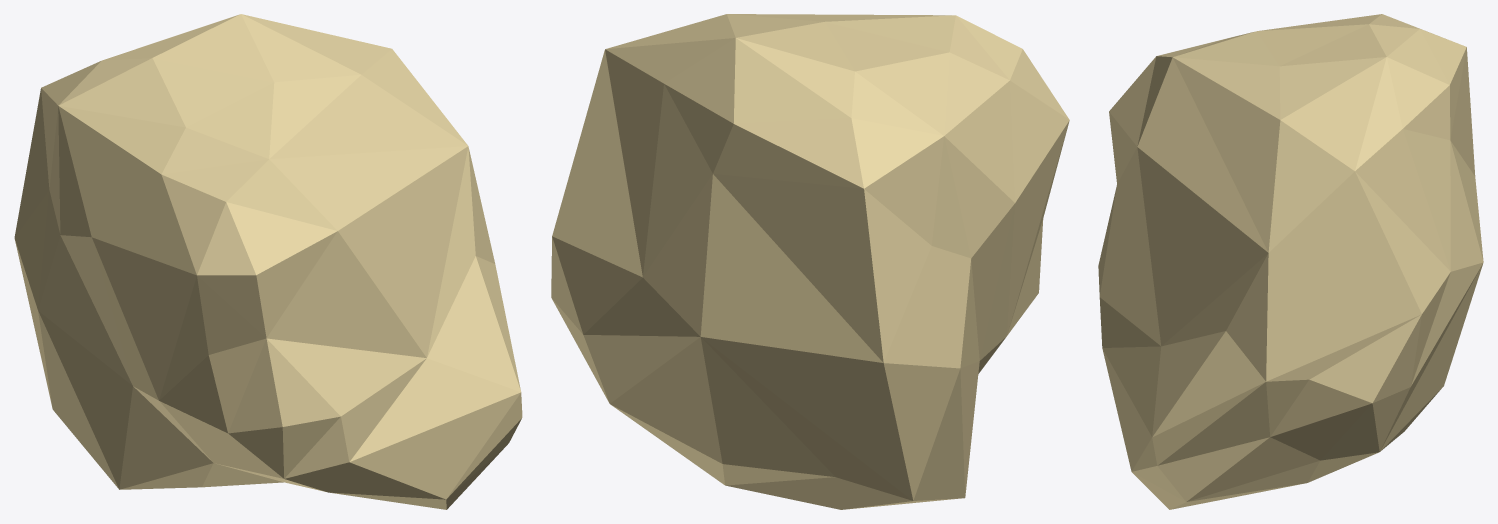
File: Rock (19).fbx
3 renders of one model, left to right at view 1: azimuth 30°, elevation 25°; view 2: azimuth 150°, elevation 25°; view 3: azimuth 270°, elevation 25°, orthographic. The views are drawn at different scales.
Parts seen in each view (by area): view 1: Asteroid18; view 2: Asteroid18; view 3: Asteroid18.
Part boxes in pixels (x1,y1,x2,y2): Asteroid18: [14, 14, 522, 509]; Asteroid18: [551, 14, 1069, 509]; Asteroid18: [1098, 14, 1483, 509].
Bounding box in the file's own units: 220 × 232 × 197.
